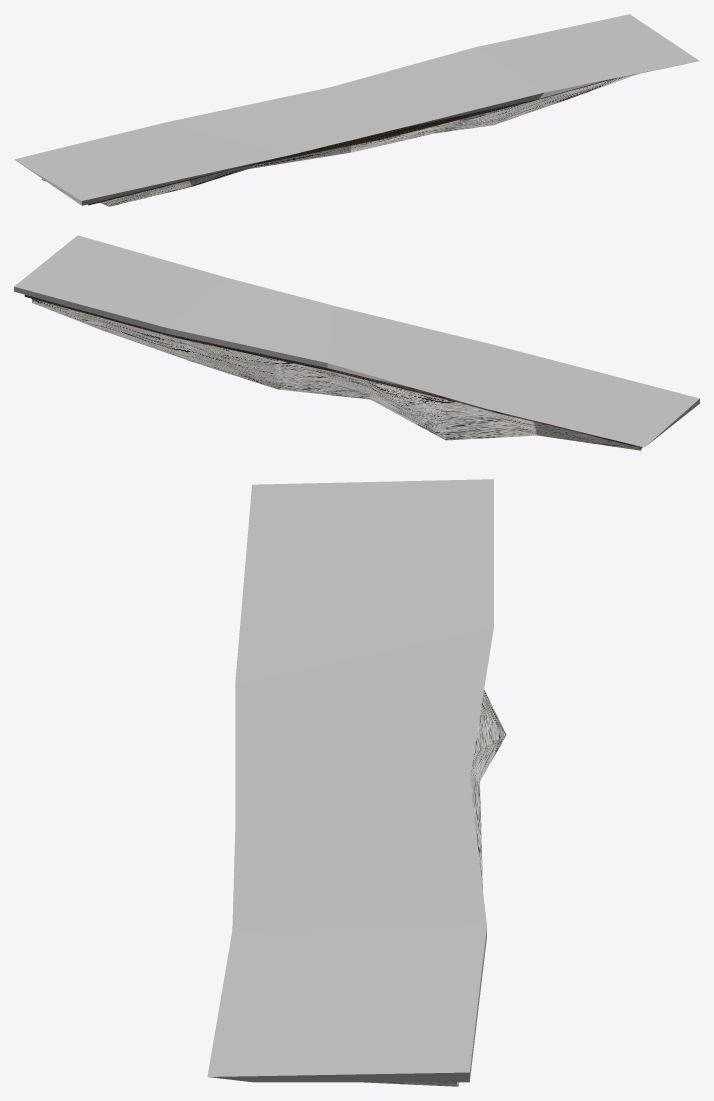
The model's file is platform3.fbx.
3 views of the same model, one above another, from view 1: azimuth 30°, elevation 25°; view 2: azimuth 150°, elevation 25°; view 3: azimuth 270°, elevation 25° (orthographic). The views are drawn at different scales.
Parts seen in each view (by area): view 1: Kostka, Cube, Kostka.001; view 2: Kostka, Cube, Kostka.001; view 3: Kostka, Cube.
Part boxes in pixels (x1,y1,x2,y2): Kostka: (14, 14, 699, 205); Cube: (41, 73, 638, 206); Kostka.001: (87, 63, 686, 205); Kostka: (14, 235, 699, 447); Cube: (32, 299, 642, 450); Kostka.001: (24, 295, 636, 446); Kostka: (207, 479, 493, 1082); Cube: (364, 689, 506, 1086).
Bounding box in the file's own units: 1599 × 94.17 × 337.
